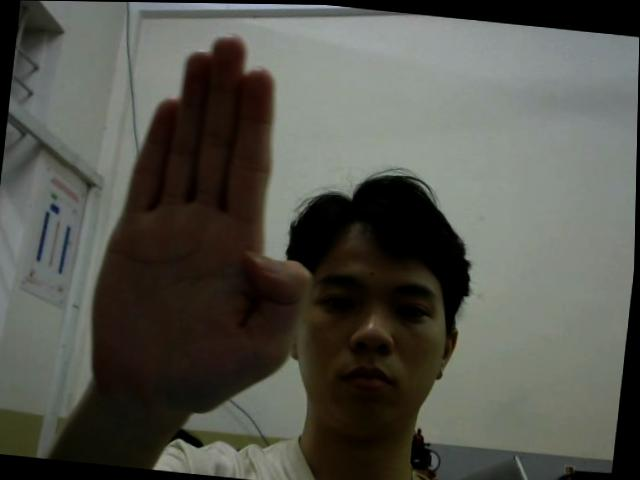B: (81, 23, 336, 423)
